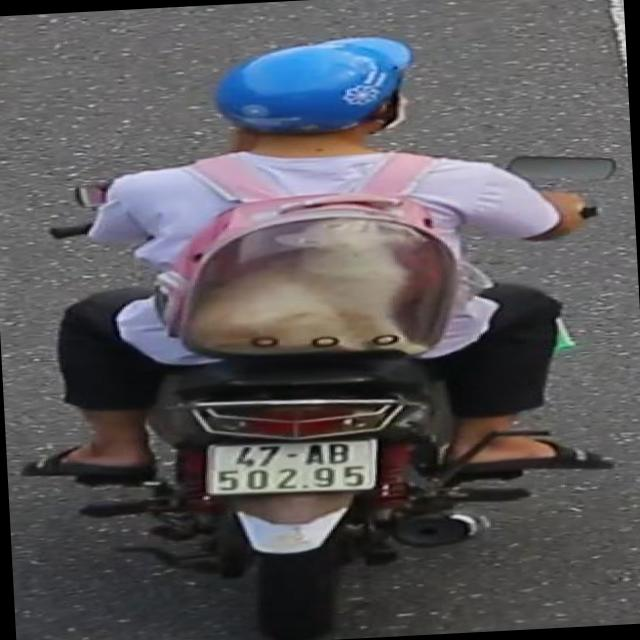LP: (192, 432, 386, 506)
helmet: (202, 26, 424, 167)
